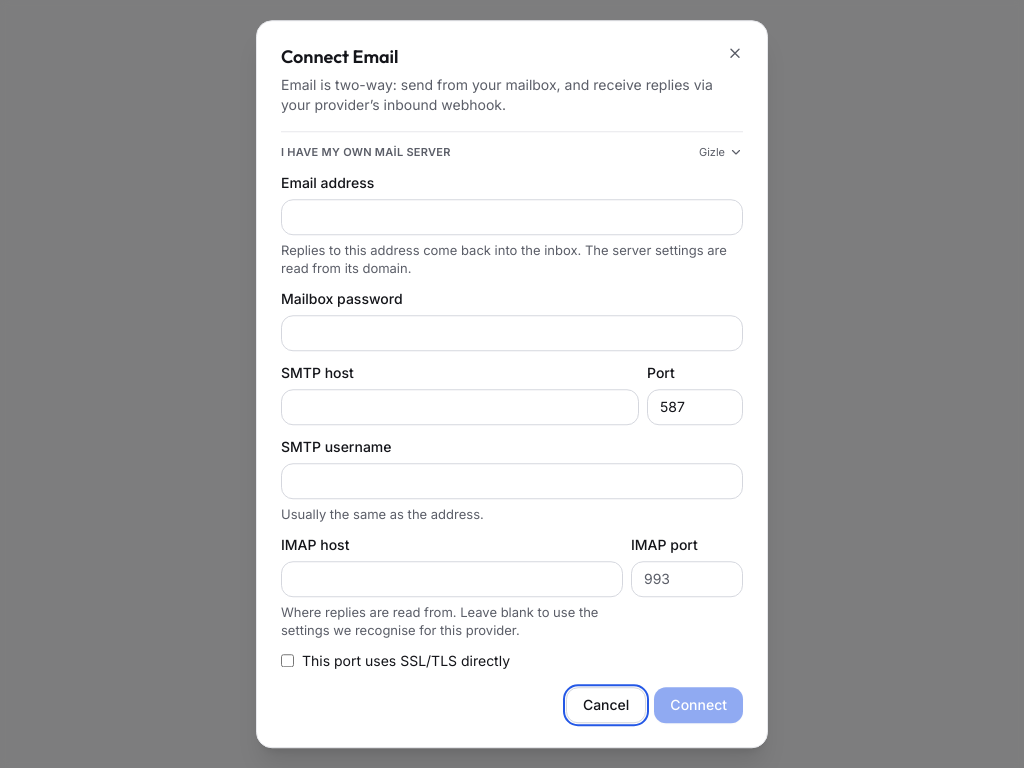
Test: EmailChannelDialog — consent first, password as the fallback › custom SMTP › says it does not know rather than filling in a guess
Type "admin@tiny-host.example" into the field labelled "Email address" at (512, 217), box [281,199,743,235]
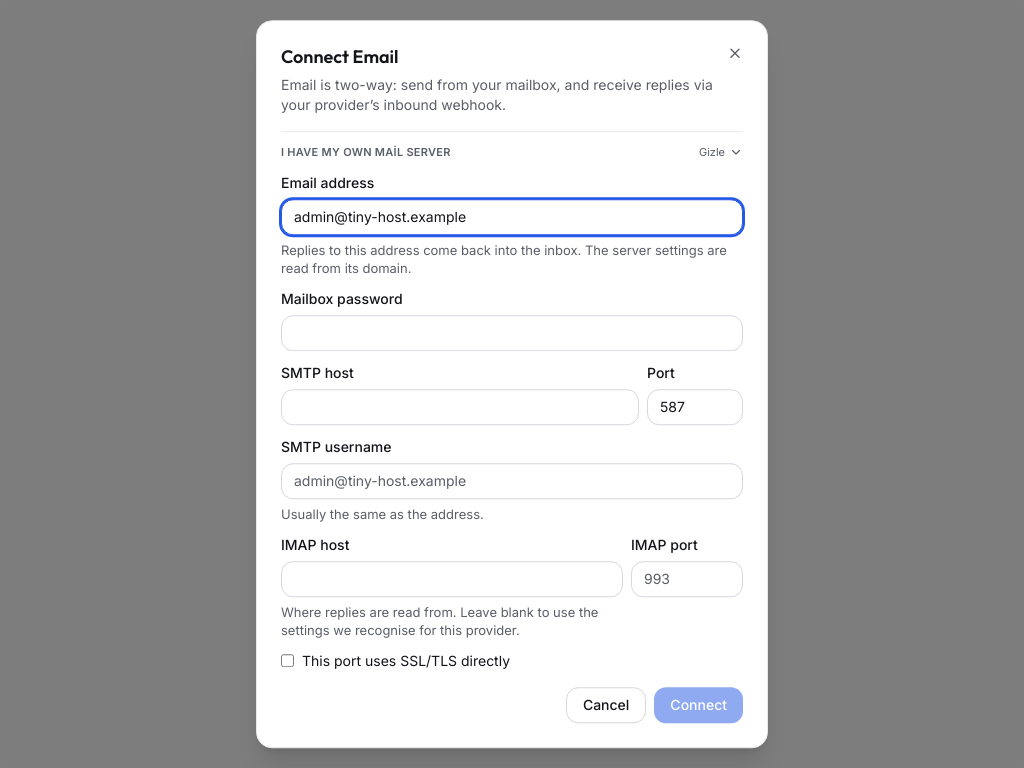
Press Tab
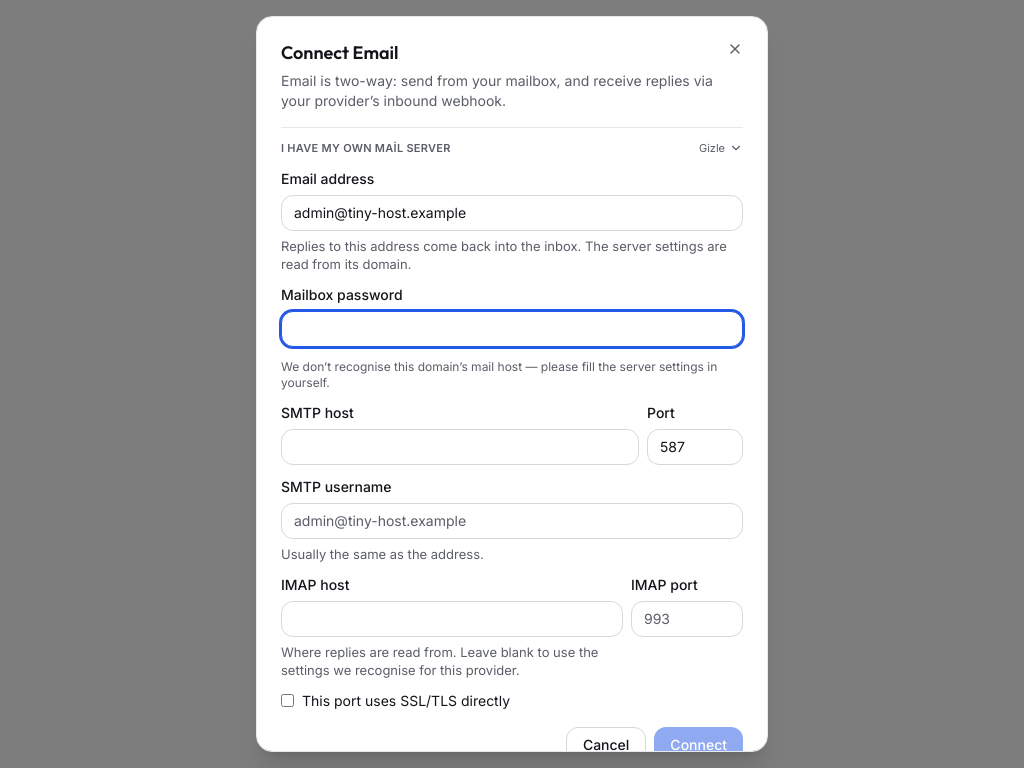
Expected: the field labelled "SMTP host" is empty, [281,428,639,464]
Now the text "don’t recognise this domain" is shown, box [281,358,717,390]
